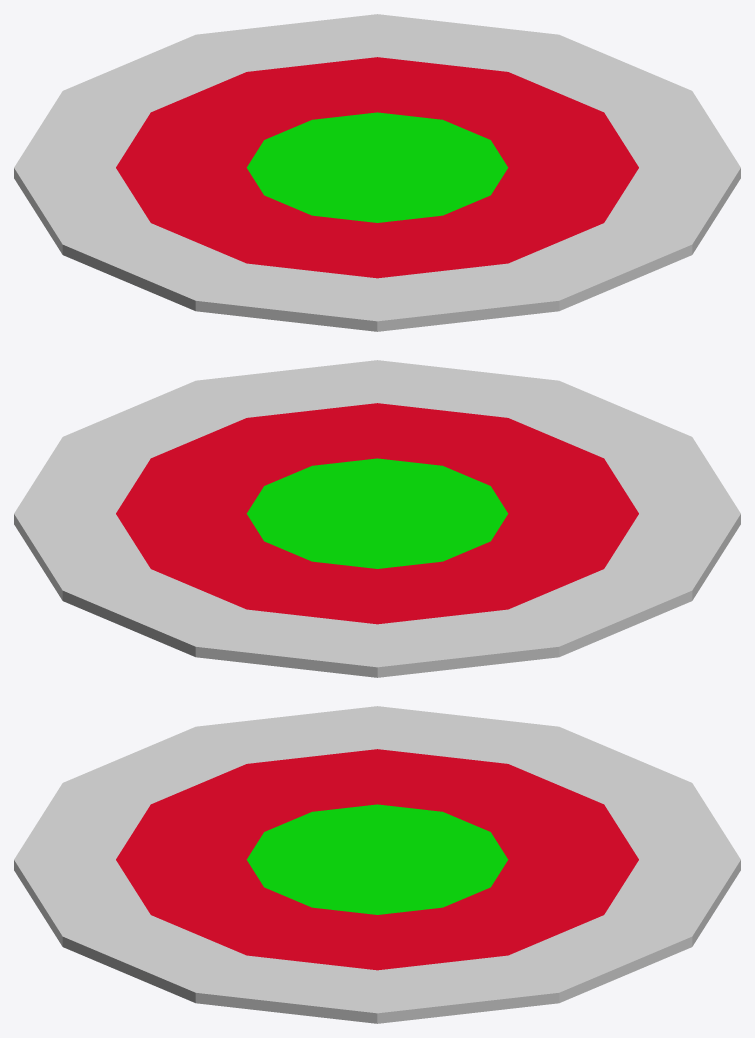
File: godotDestination.glb
3 renders of one model, top to bottom at view 1: azimuth 30°, elevation 25°; view 2: azimuth 150°, elevation 25°; view 3: azimuth 270°, elevation 25°, orthographic.
Visible parts, largest first — view 1: Destination; view 2: Destination; view 3: Destination.
Part boxes in pixels (<box>): Destination: <box>14,14,740,331</box>; Destination: <box>14,360,740,677</box>; Destination: <box>14,706,740,1023</box>.
Size of the model in its own units: 6.26 by 0.1 by 6.26.
